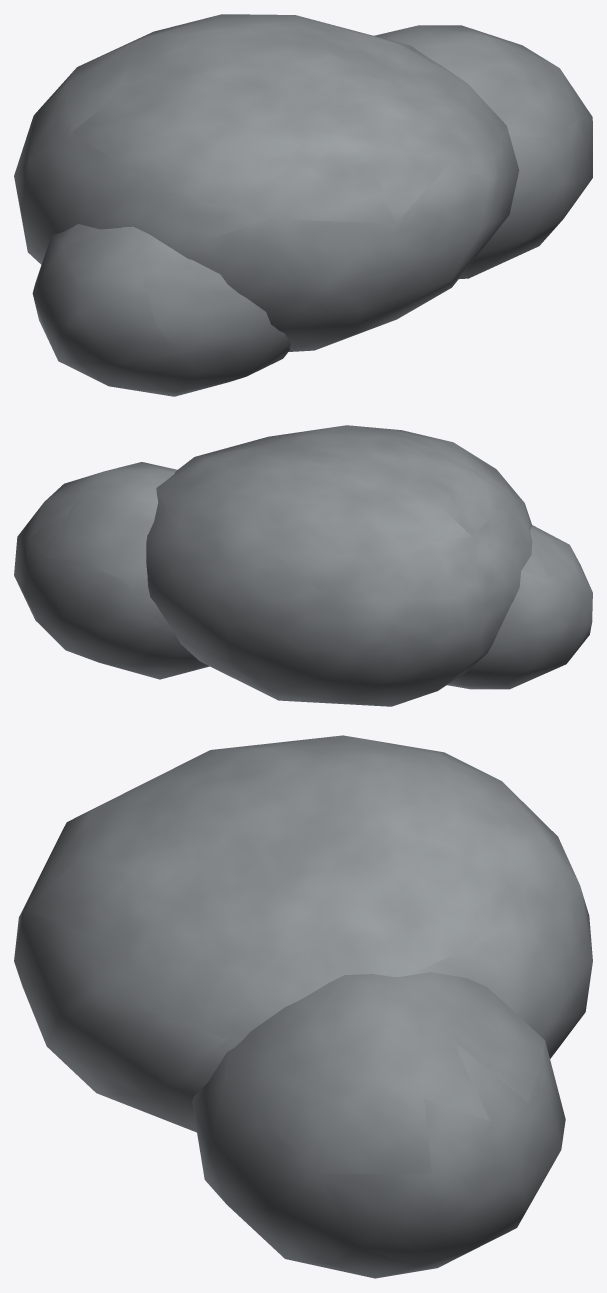
The model's file is rock_b.lo.glb.
3 renders of one model, top to bottom at view 1: azimuth 30°, elevation 25°; view 2: azimuth 150°, elevation 25°; view 3: azimuth 270°, elevation 25°, orthographic. The views are drawn at different scales.
Parts seen in each view (by area): view 1: rock; view 2: rock; view 3: rock.
Boxes of the visible parts, bbox=[...] form: rock: bbox=[14, 14, 592, 396]; rock: bbox=[14, 425, 592, 706]; rock: bbox=[14, 735, 592, 1278].
Size of the model in its own units: 3.28 by 1.49 by 2.23.
Materials: 1 (1 with a texture image).
